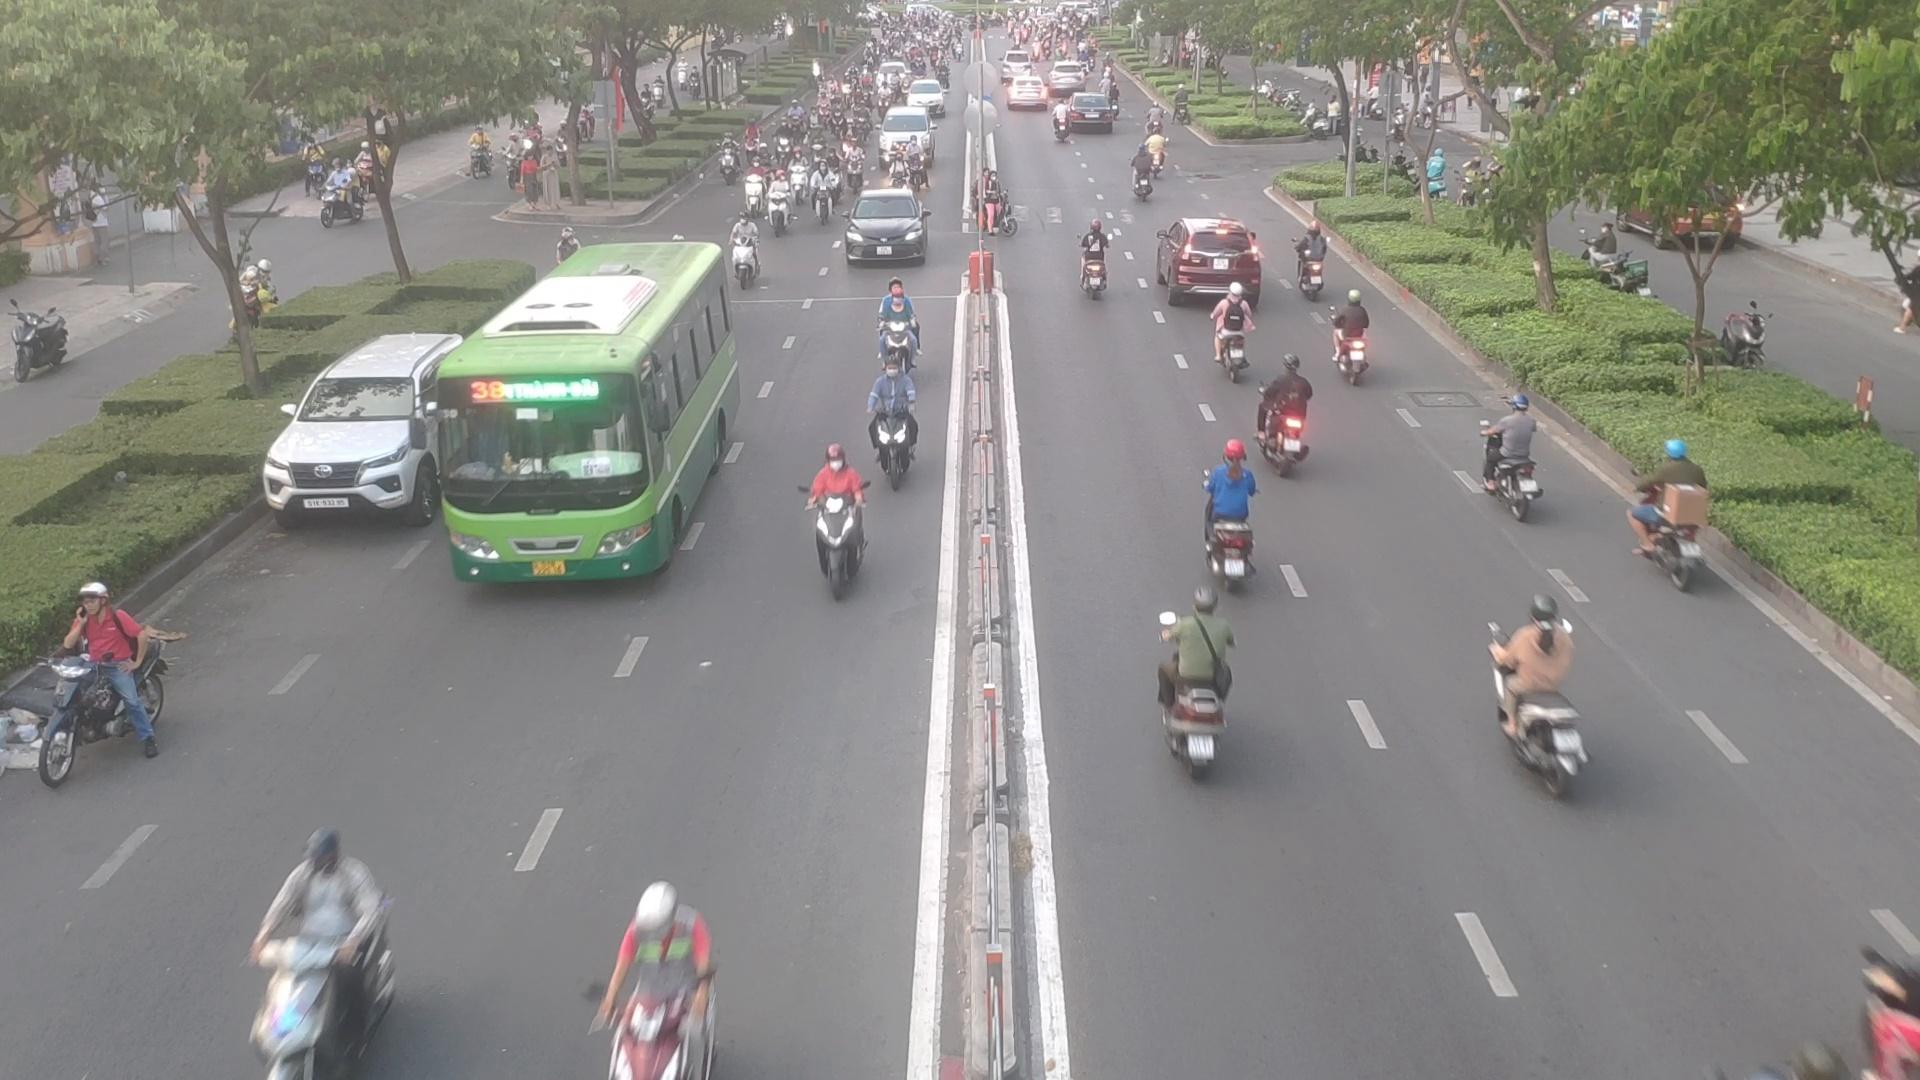bus: (436, 251, 742, 587)
car: (261, 332, 481, 526), (1160, 214, 1259, 299), (837, 193, 928, 269)
motorbike: (224, 835, 389, 1076), (12, 584, 170, 782), (587, 884, 721, 1077), (1484, 632, 1596, 794), (1135, 605, 1233, 775), (1625, 448, 1724, 585), (802, 455, 874, 593), (1476, 402, 1557, 516), (860, 367, 924, 475), (1257, 367, 1319, 473), (1213, 280, 1266, 390), (1329, 291, 1382, 384), (869, 285, 923, 369), (1073, 220, 1116, 297), (1288, 228, 1332, 299), (1129, 148, 1163, 202), (757, 187, 793, 237)
